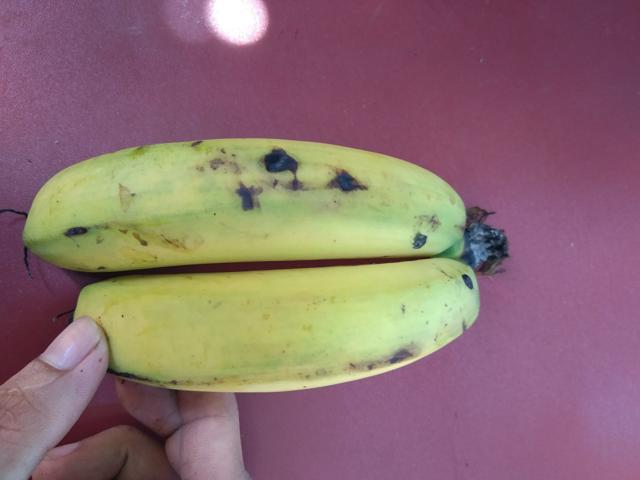ripe: (21, 119, 501, 267), (61, 258, 484, 403)
